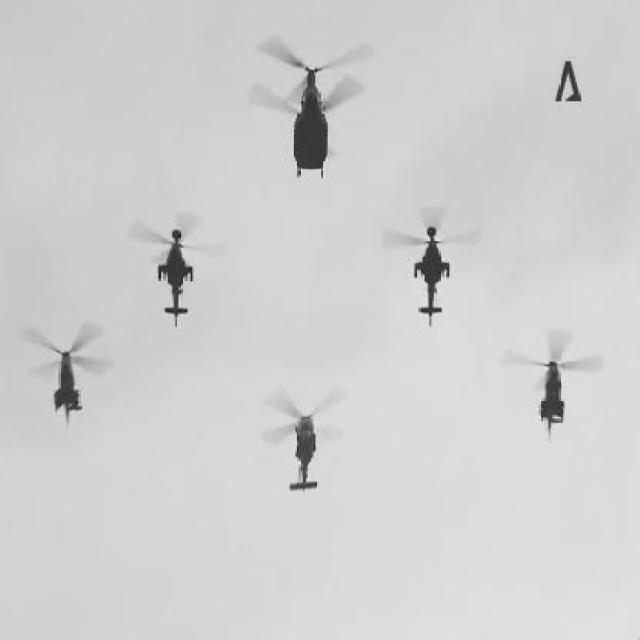Helicopter: (246, 33, 375, 182), (500, 326, 604, 444), (381, 205, 481, 326), (129, 210, 224, 327), (22, 324, 116, 432), (262, 386, 348, 493)
